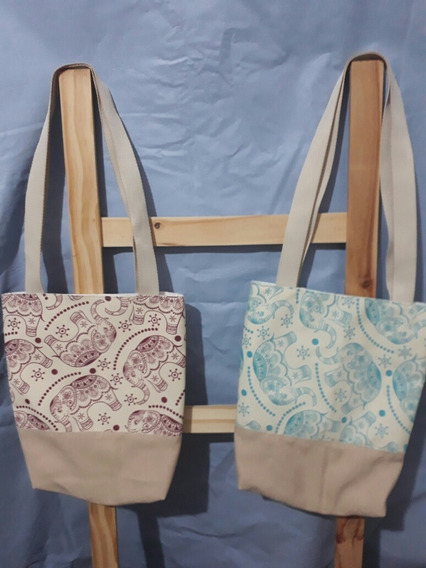cartera: (232, 54, 426, 521), (4, 65, 187, 505)
